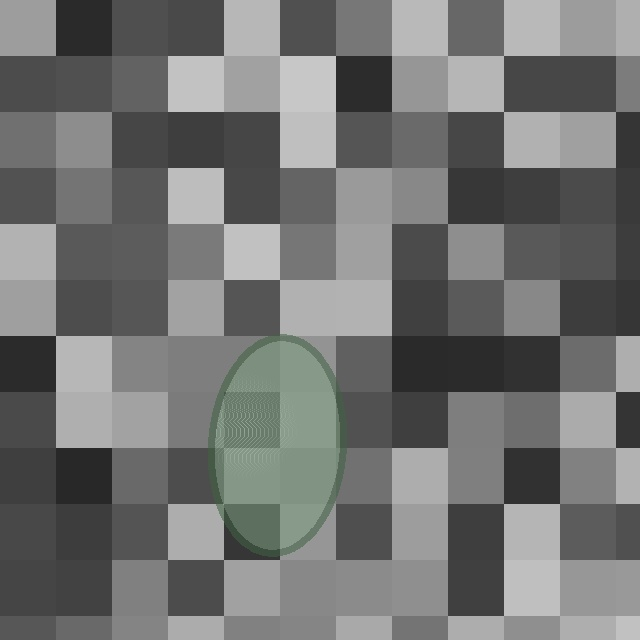lens: (211, 337, 343, 553)
